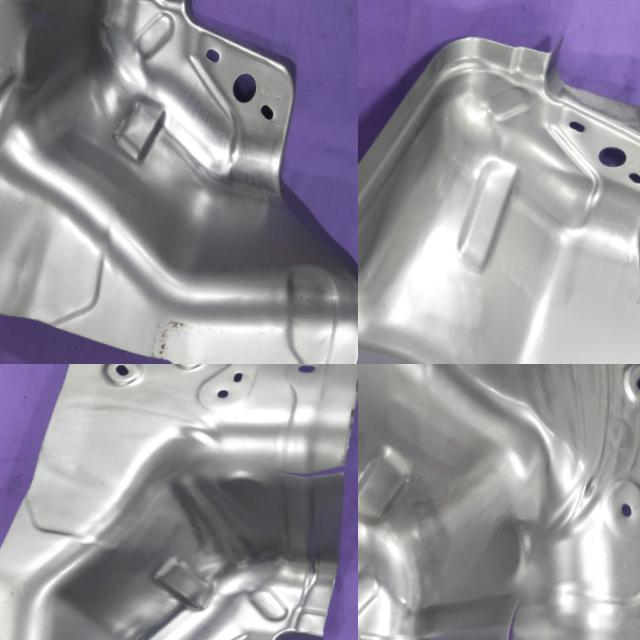Defect: (262, 446, 358, 498), (484, 579, 542, 640)
Healthy: (358, 0, 640, 364)
rust: (136, 299, 203, 364)
